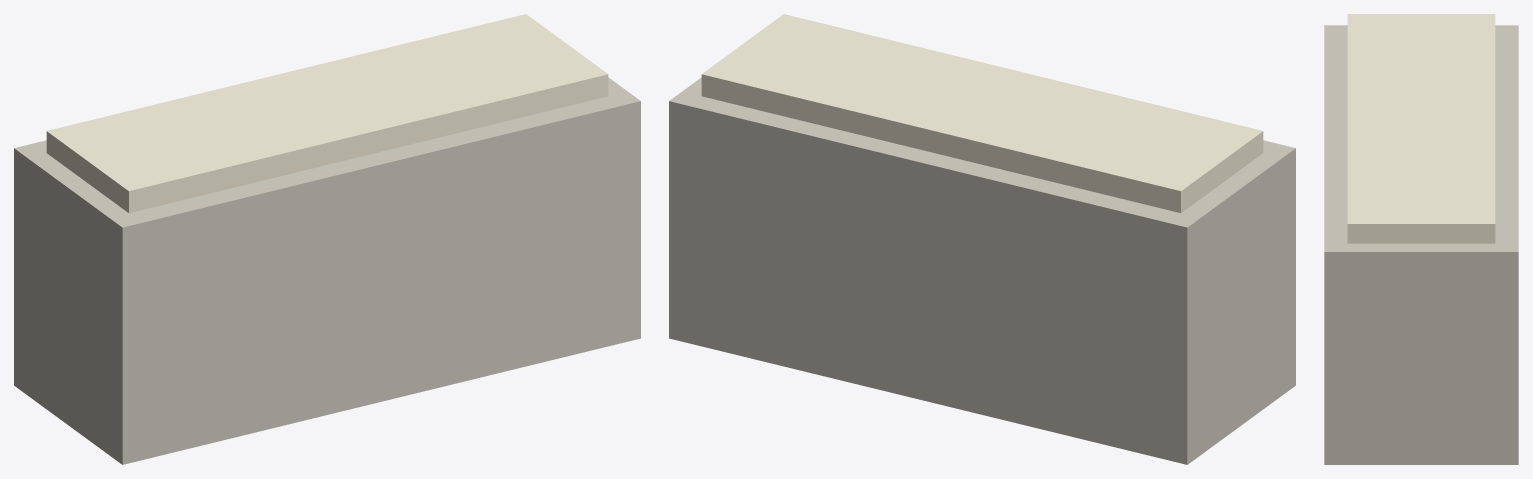
File: seam-stone.glb
The picture shows the model from 3 angles, left to right: view 1: azimuth 30°, elevation 25°; view 2: azimuth 150°, elevation 25°; view 3: azimuth 270°, elevation 25°; orthographic projection. The views are drawn at different scales.
Parts seen in each view (by area): view 1: world; view 2: world; view 3: world.
Boxes of the visible parts, bbox=[...] form: world: bbox=[14, 14, 640, 464]; world: bbox=[669, 14, 1295, 464]; world: bbox=[1324, 14, 1518, 464].
Bounding box in the file's own units: 0.8 × 0.3825 × 0.29.
